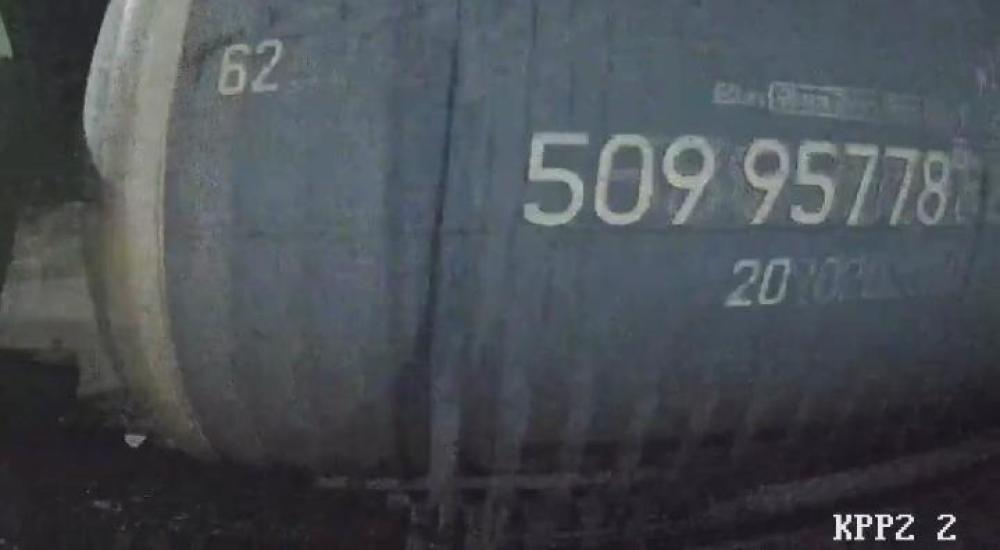Wagon-number: (514, 118, 956, 235)
